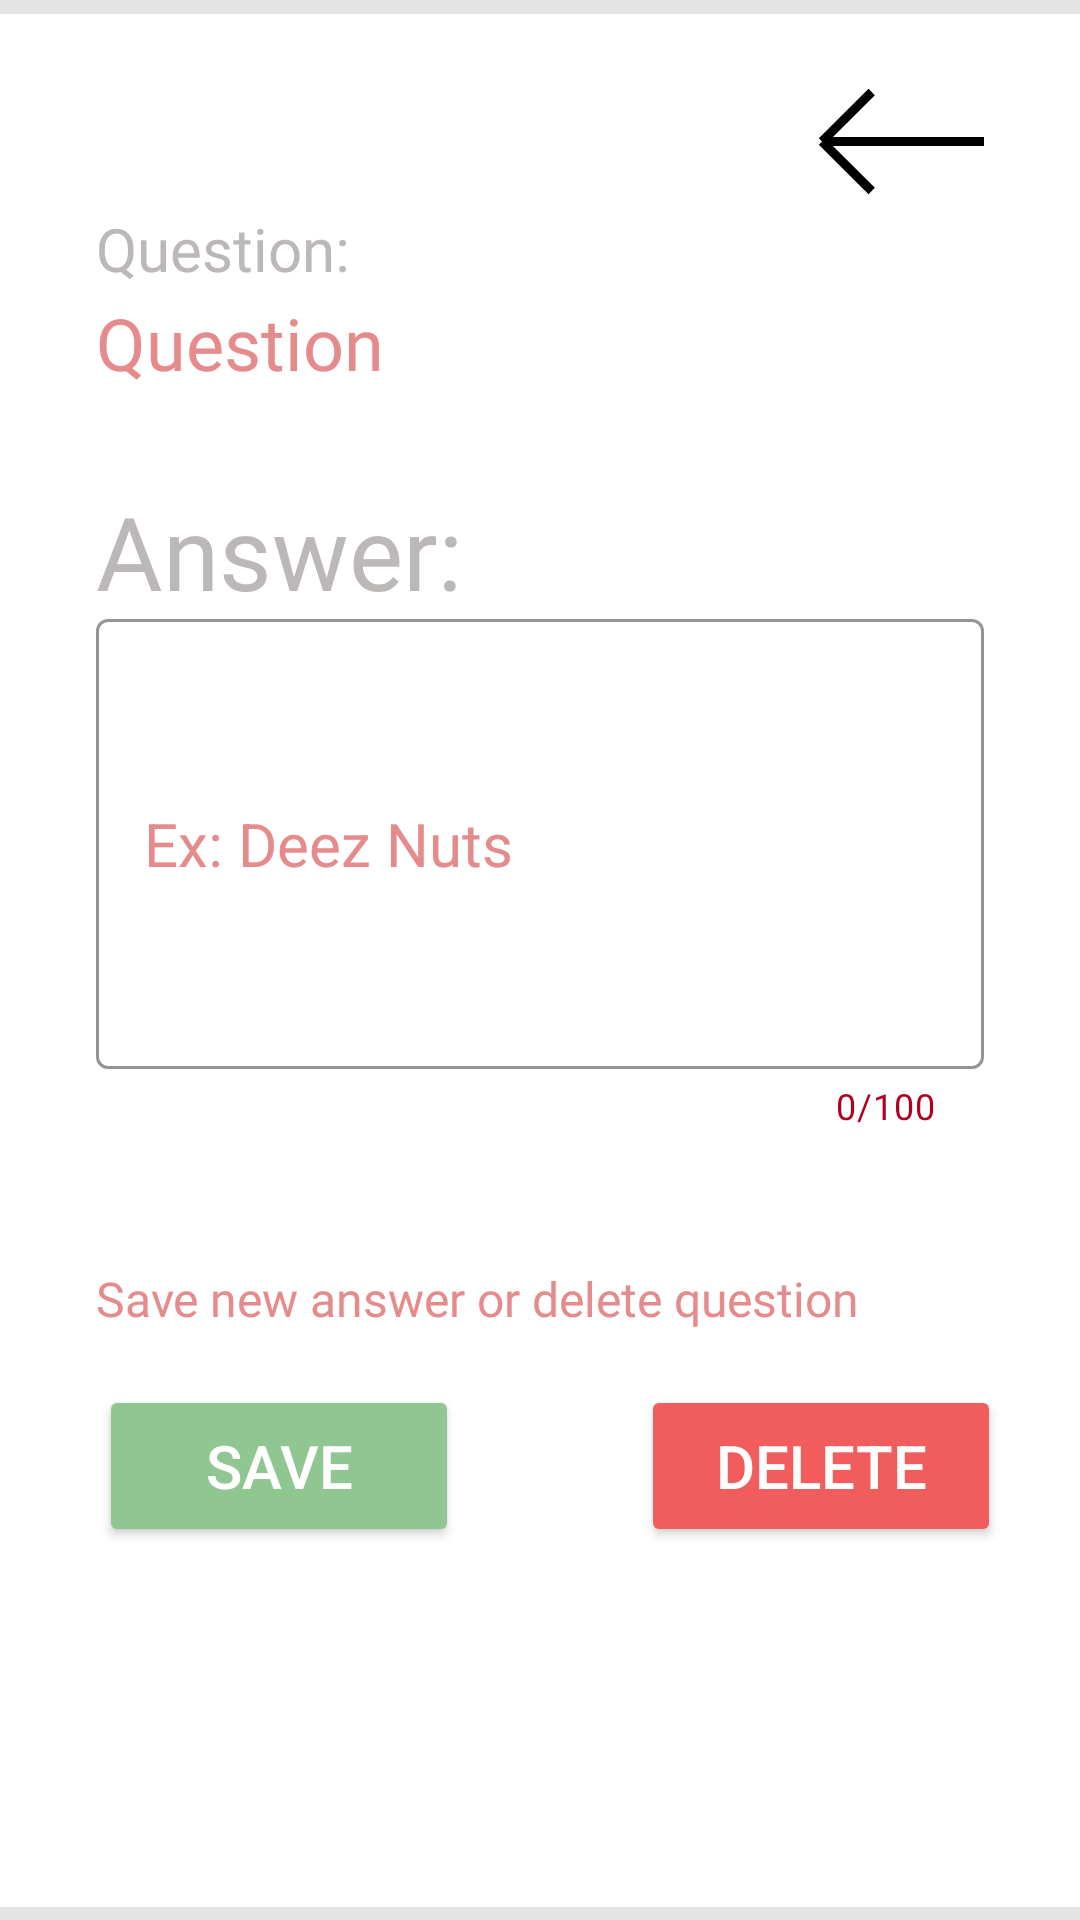

Icon bounding boxes for this 1080px x 1920px phone screenshot, format box(x1, y1, x2, y2):
back: box(819, 89, 984, 194)
